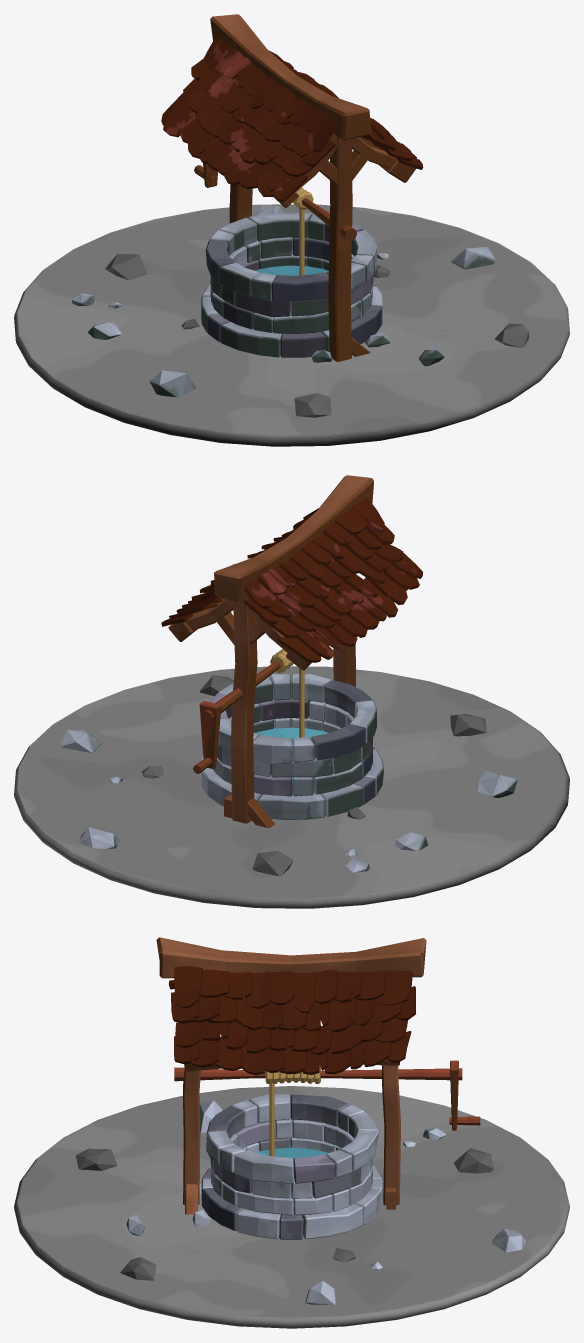
File: Well.fbx
3 renders of one model, top to bottom at view 1: azimuth 30°, elevation 25°; view 2: azimuth 150°, elevation 25°; view 3: azimuth 270°, elevation 25°, orthographic.
Visible parts, largest first — view 1: Circle.002; view 2: Circle.002; view 3: Circle.002.
Boxes of the visible parts, box(x1,y1,x2,y2) form: Circle.002: box(14, 14, 569, 446); Circle.002: box(14, 475, 569, 908); Circle.002: box(14, 937, 569, 1328).
Size of the model in its own units: 560 by 299 by 560.
1 material, 1 textured.
